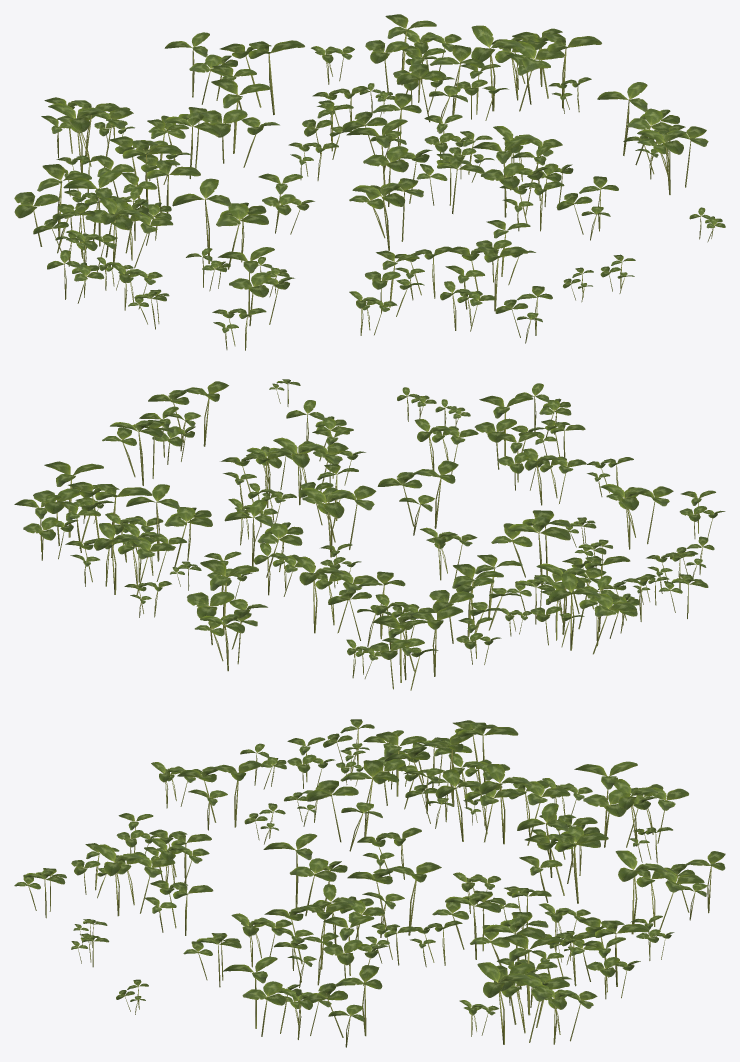
The model's file is clover-patch.glb.
3 views of the same model, one above another, from view 1: azimuth 30°, elevation 25°; view 2: azimuth 150°, elevation 25°; view 3: azimuth 270°, elevation 25° (orthographic). The views are drawn at different scales.
Parts seen in each view (by area): view 1: lod2, lod1; view 2: lod2, lod1; view 3: lod2, lod1.
Part boxes in pixels (<box>): lod2: <box>14,14,725,350</box>; lod1: <box>18,19,725,348</box>; lod2: <box>14,379,725,689</box>; lod1: <box>19,382,717,690</box>; lod2: <box>14,719,725,1046</box>; lod1: <box>23,719,725,1047</box>.
Size of the model in its own units: 80.41 by 9.8 by 79.09.
Materials: 1 (1 with a texture image).
